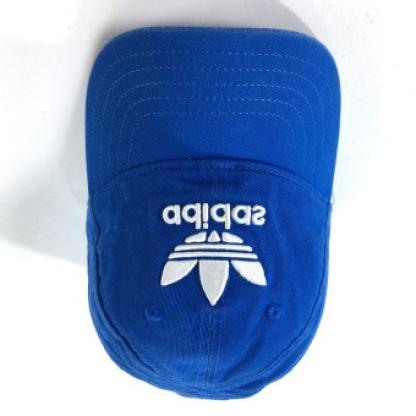cap: (74, 19, 352, 408)
